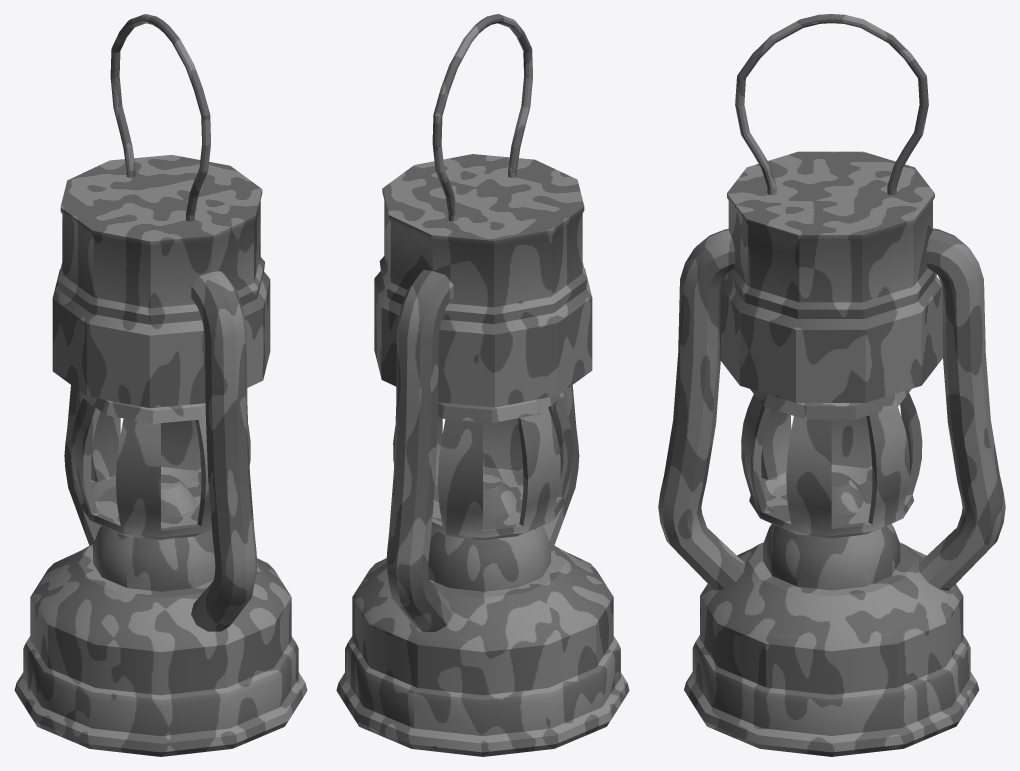
Rendered from OilLamp.fbx.
3 views of the same model, side by side, from view 1: azimuth 30°, elevation 25°; view 2: azimuth 150°, elevation 25°; view 3: azimuth 270°, elevation 25° (orthographic).
Visible parts, largest first — view 1: Cube.001; view 2: Cube.001; view 3: Cube.001.
Boxes of the visible parts, x1=… form: Cube.001: x1=14, y1=14, x2=307, y2=756; Cube.001: x1=336, y1=14, x2=629, y2=756; Cube.001: x1=658, y1=14, x2=1005, y2=756.
Bounding box in the file's own units: 217 × 553 × 255.
Materials: 1 (1 with a texture image).
